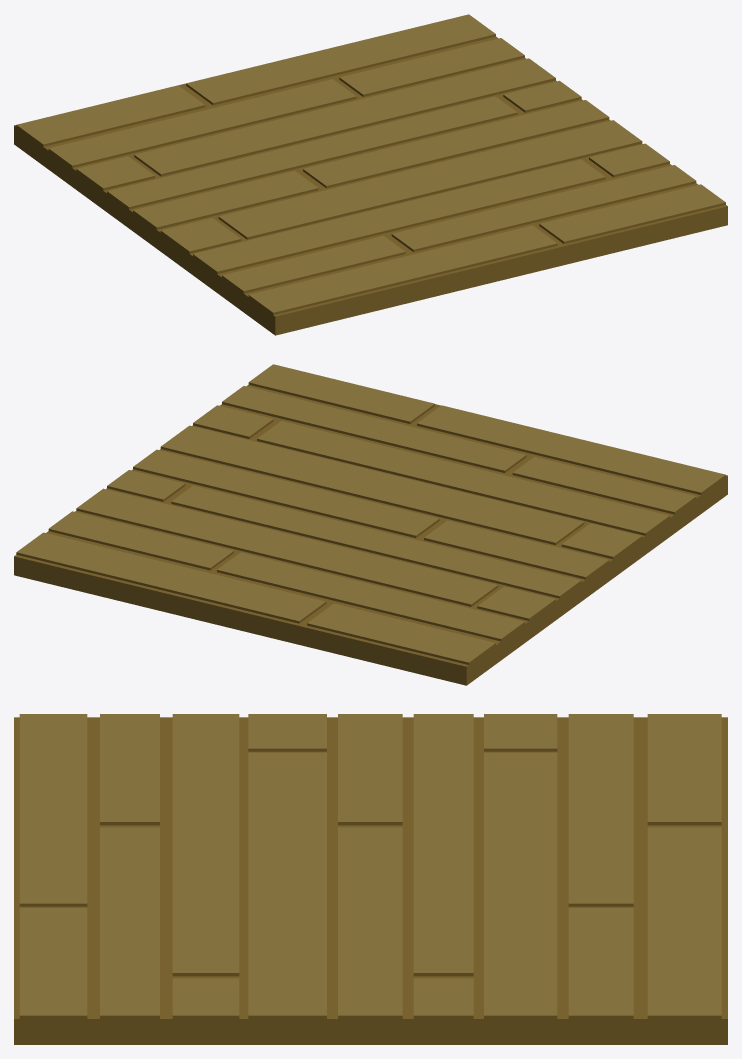
Rendered from floor5x5 wood.fbx.
The picture shows the model from 3 angles, top to bottom: view 1: azimuth 30°, elevation 25°; view 2: azimuth 150°, elevation 25°; view 3: azimuth 270°, elevation 25°; orthographic projection. The views are drawn at different scales.
Visible parts, largest first — view 1: Wood Floor 5x5; view 2: Wood Floor 5x5; view 3: Wood Floor 5x5.
Part boxes in pixels (bbox=[...]): Wood Floor 5x5: bbox=[14, 14, 727, 335]; Wood Floor 5x5: bbox=[14, 364, 727, 685]; Wood Floor 5x5: bbox=[14, 714, 727, 1044].
Bounding box in the file's own units: 500 × 22.51 × 500.
